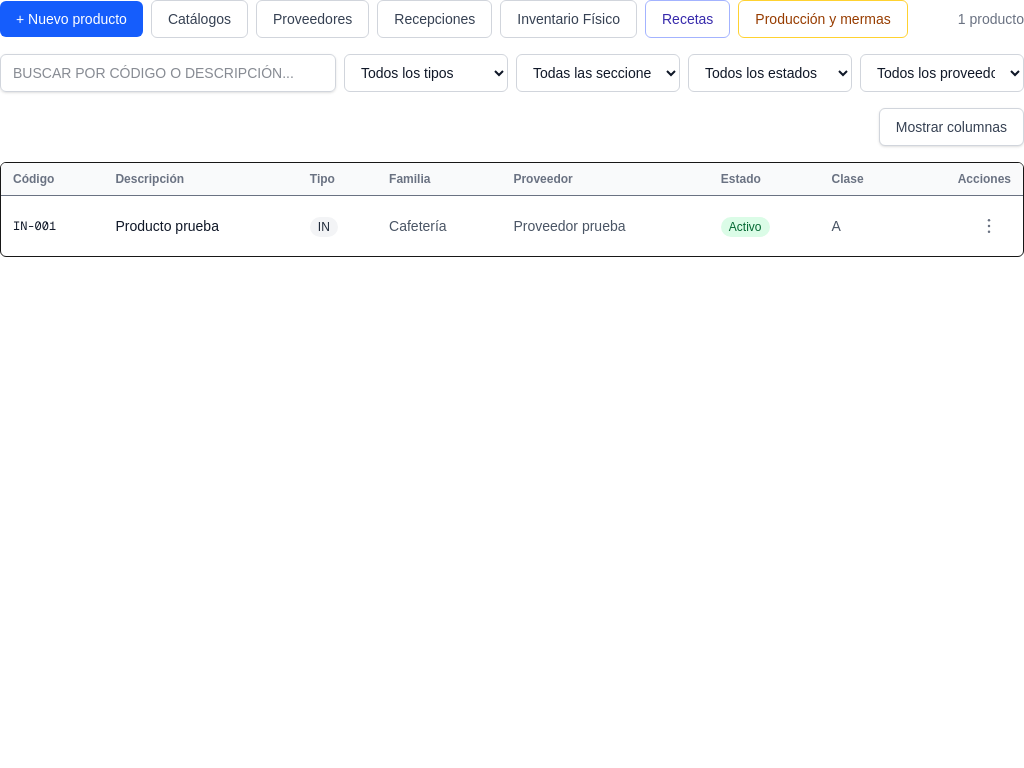
Test: InventoryPage column visibility › discards draft changes when cancelled
Check: the text "Producto prueba" is shown, box left=103, top=196, right=298, bottom=256
Click the button "Mostrar columnas" at x=951, y=127, box left=879, top=108, right=1023, bottom=146
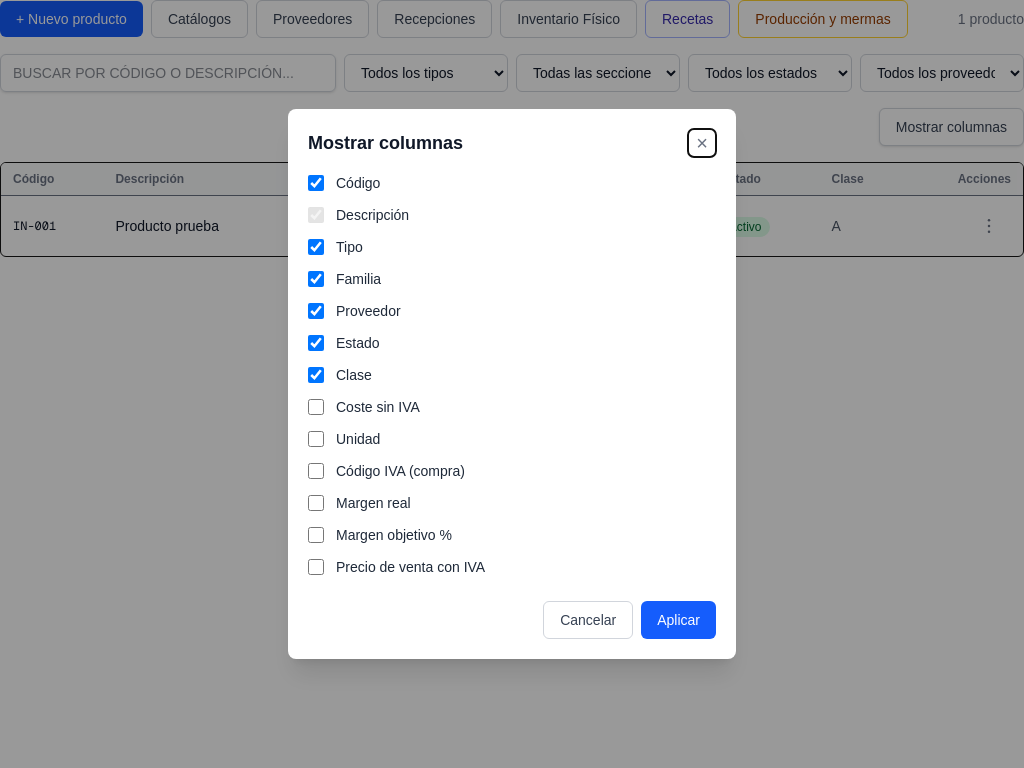
Click the checkbox labelled "Código" at x=316, y=183, box left=308, top=175, right=324, bottom=191
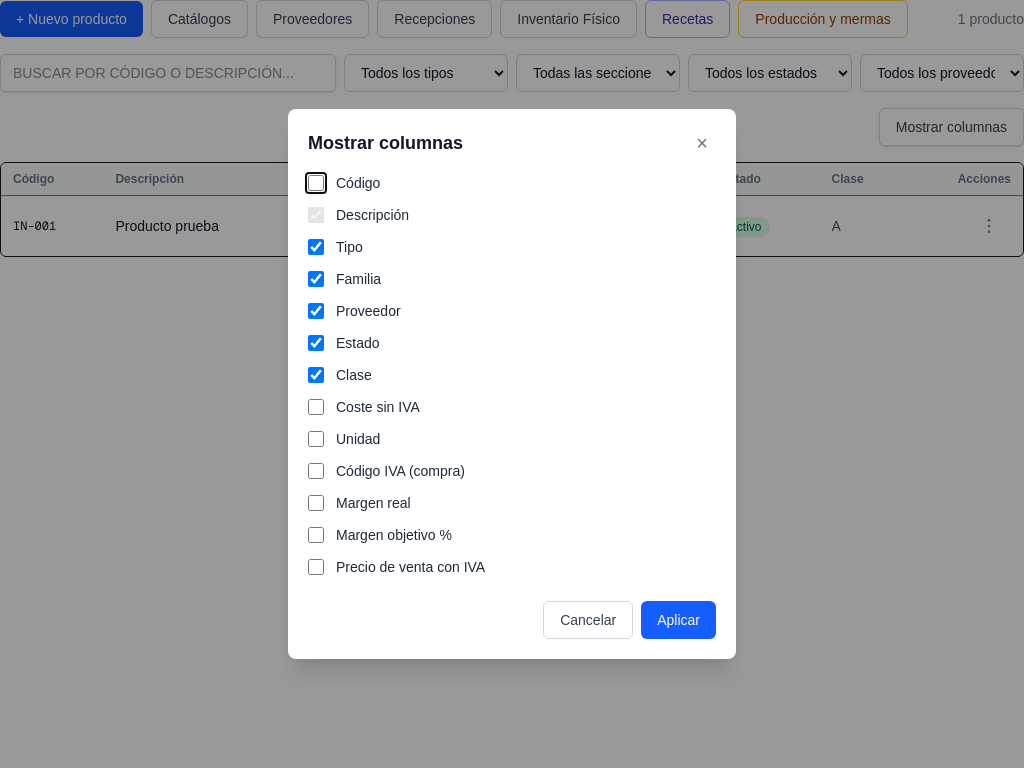
Click the checkbox labelled "Coste sin IVA" at x=316, y=407, box left=308, top=399, right=324, bottom=415
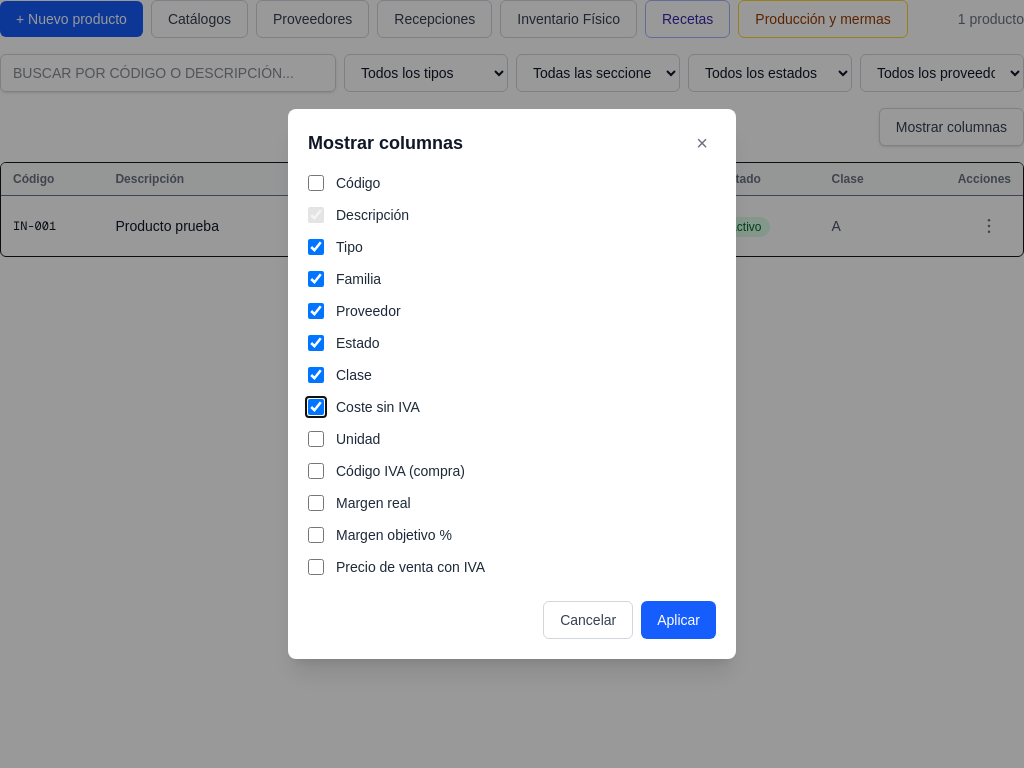
Click the button "Cancelar" at x=588, y=620, box left=543, top=601, right=633, bottom=639
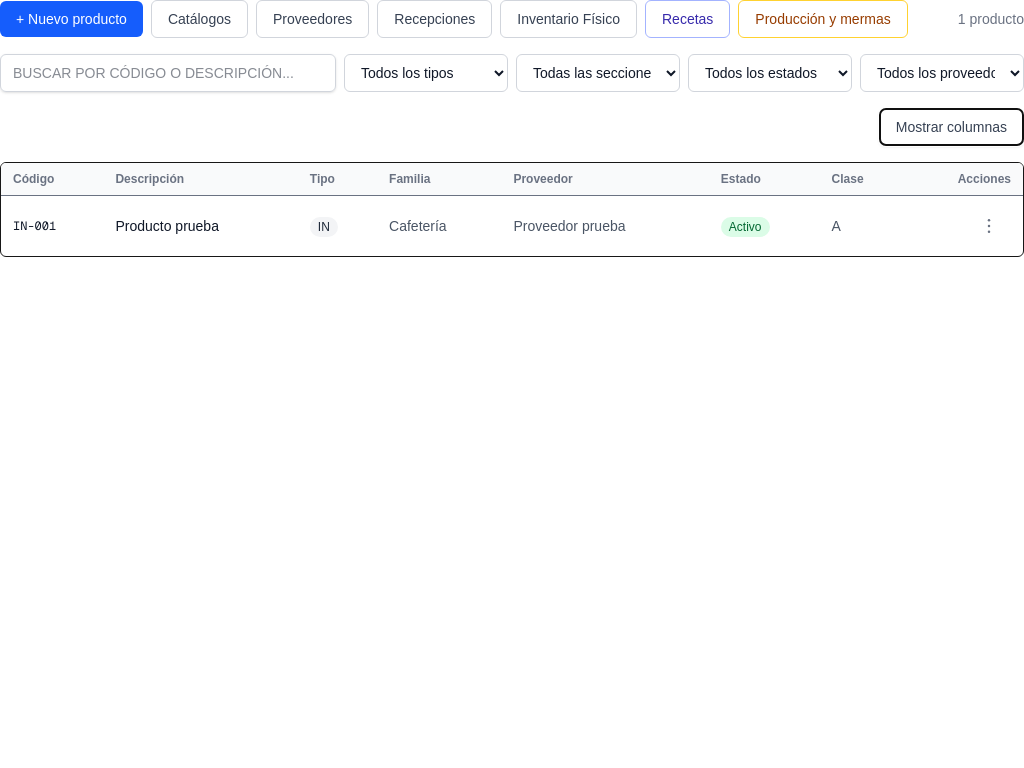
Check: the dialog is gone
